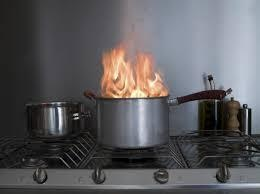fire: (96, 43, 171, 97)
